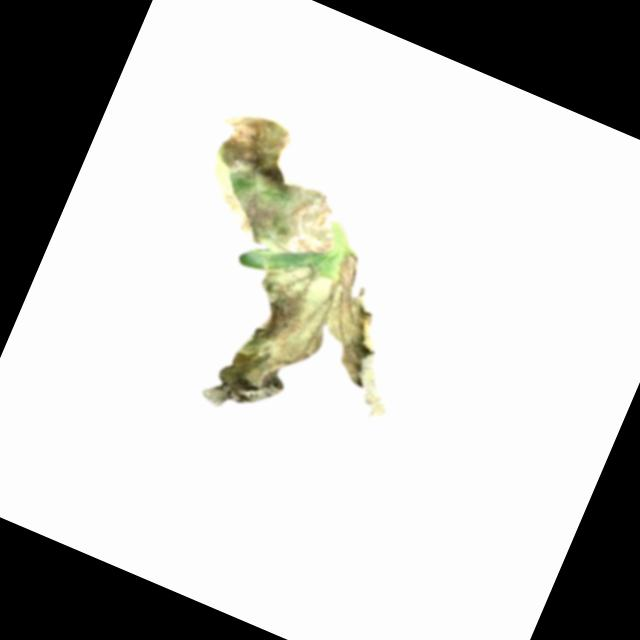Late_blight: (194, 217, 438, 470), (185, 100, 369, 270)
